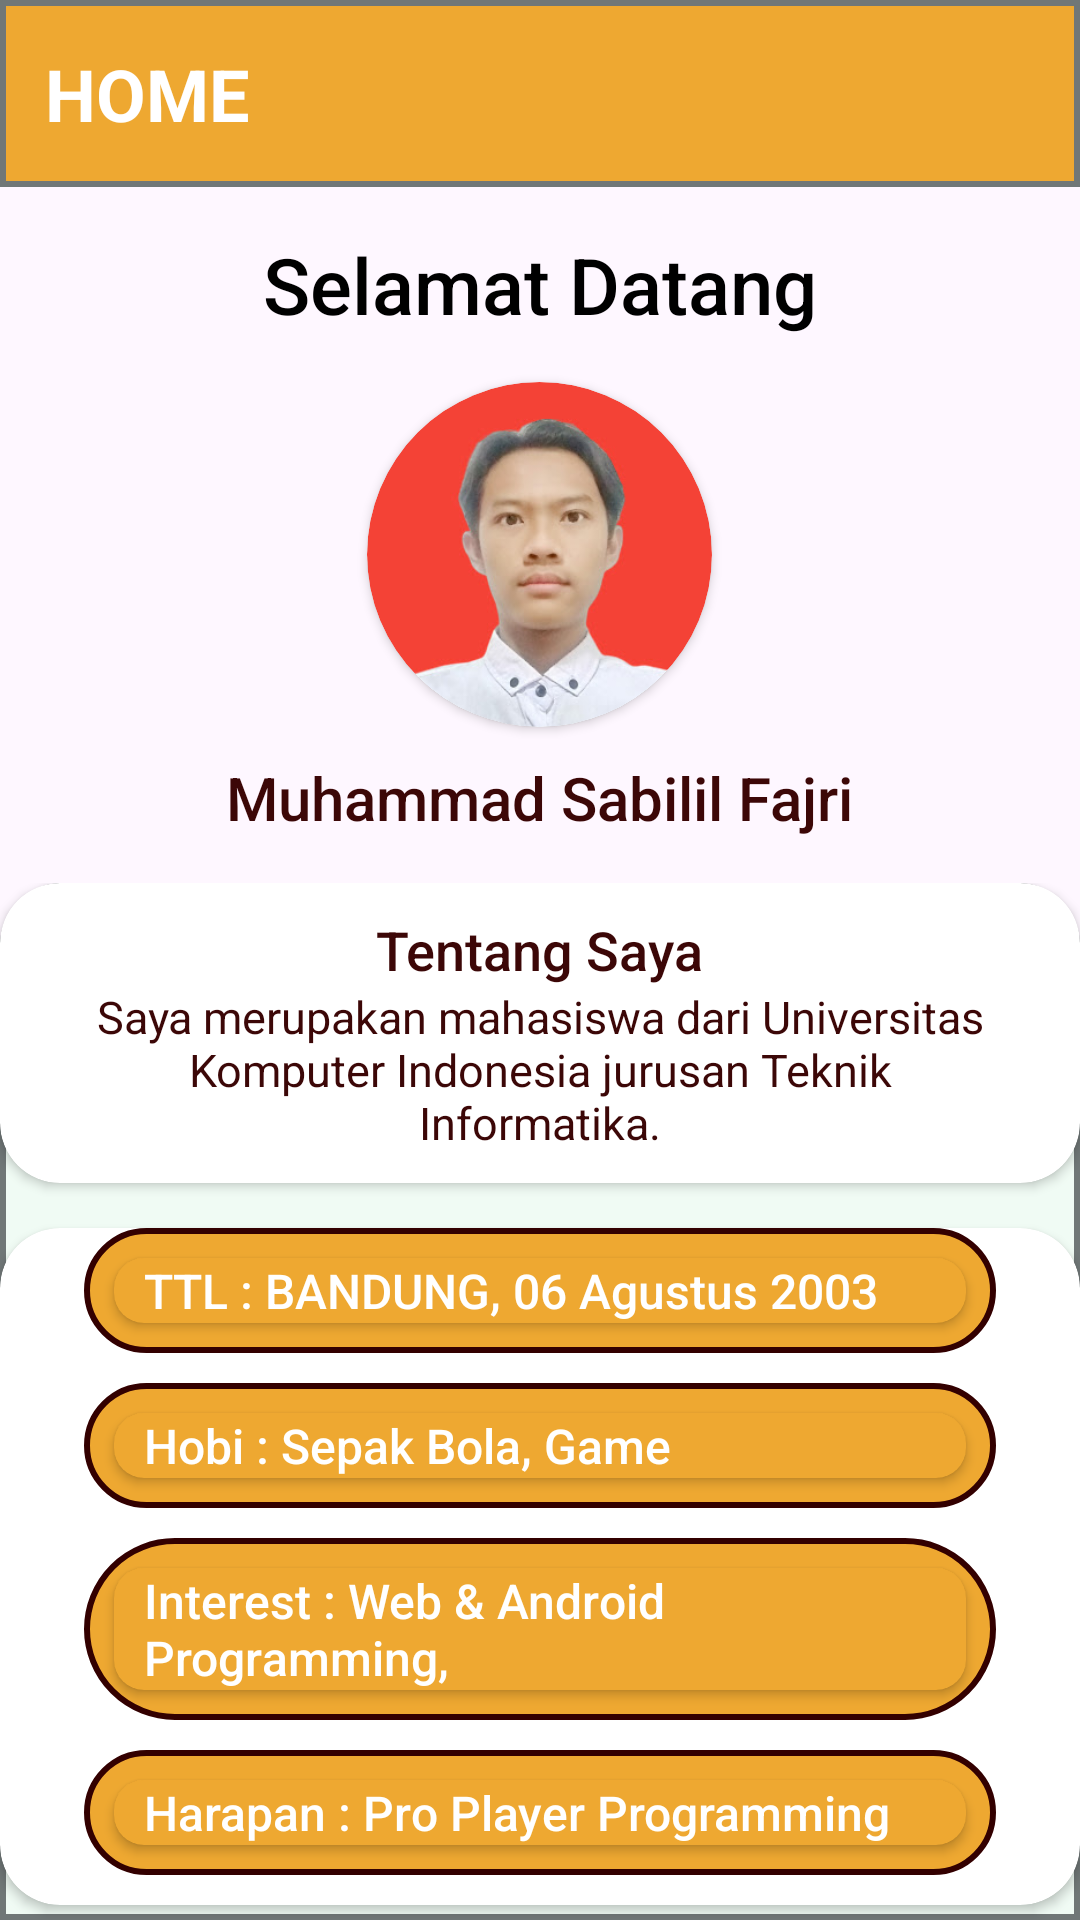

Screen size 1080 × 1920. Icon name, then its box in pixels as {"left": x1, "top": y1, "right": x2, "bottom": y2}:
profile: {"left": 367, "top": 382, "right": 712, "bottom": 727}
